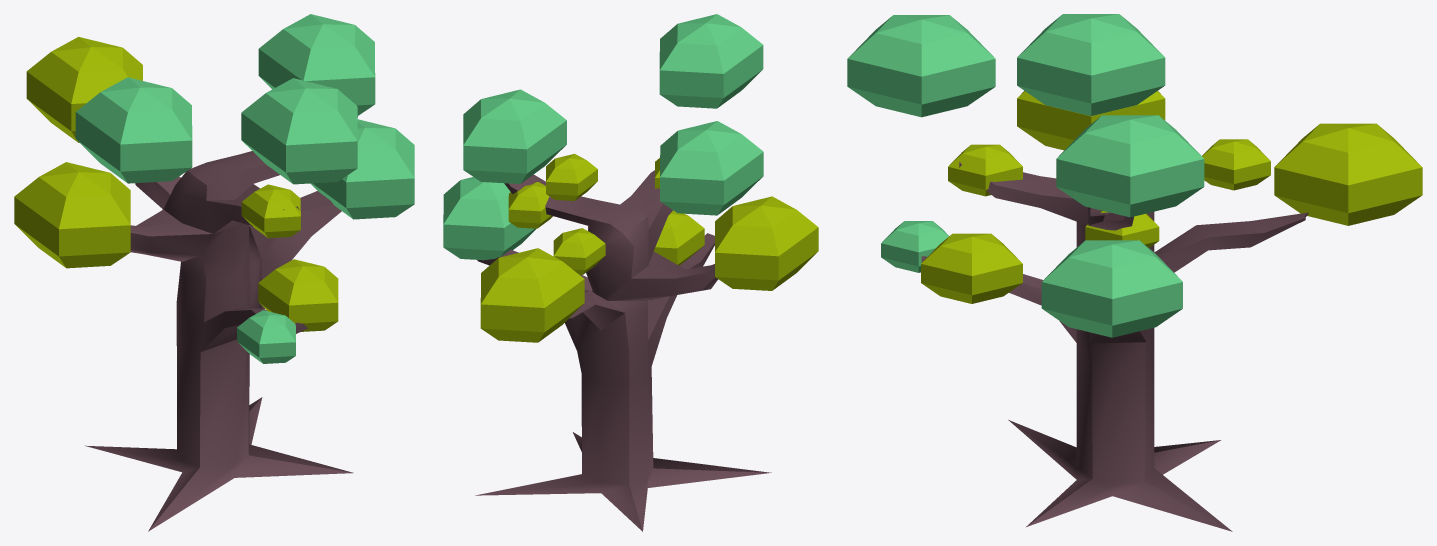
The model's file is Tree_Big.fbx.
The picture shows the model from 3 angles, left to right: view 1: azimuth 30°, elevation 25°; view 2: azimuth 150°, elevation 25°; view 3: azimuth 270°, elevation 25°; orthographic projection. The views are drawn at different scales.
Parts seen in each view (by area): view 1: Assets2:Tree:TreeInPot, Assets2:Tree:Leaves8, Assets2:Tree:Leaves9, Assets2:Tree:Leaves7, Assets2:Tree:Leaves13, Assets2:Tree:Leaves6, Assets2:Tree:Leaves, Assets2:Tree:Leaves12, Assets2:Tree:Leaves10, Assets2:Tree:Leaves11; view 2: Assets2:Tree:TreeInPot, Assets2:Tree:Leaves9, Assets2:Tree:Leaves6, Assets2:Tree:Leaves13, Assets2:Tree:Leaves7, Assets2:Tree:Leaves8, Assets2:Tree:Leaves, Assets2:Tree:Leaves4, Assets2:Tree:Leaves12, Assets2:Tree:Leaves5, Assets2:Tree:Leaves2; view 3: Assets2:Tree:TreeInPot, Assets2:Tree:Leaves6, Assets2:Tree:Leaves13, Assets2:Tree:Leaves9, Assets2:Tree:Leaves8, Assets2:Tree:Leaves, Assets2:Tree:Leaves12, Assets2:Tree:Leaves7, Assets2:Tree:Leaves5, Assets2:Tree:Leaves10, Assets2:Tree:Leaves11, Assets2:Tree:Leaves2.
Part boxes in pixels (box(x1,y1,x2,y2)): Assets2:Tree:TreeInPot: box(85, 116, 357, 531); Assets2:Tree:Leaves8: box(75, 77, 192, 183); Assets2:Tree:Leaves9: box(241, 78, 357, 184); Assets2:Tree:Leaves7: box(14, 162, 130, 268); Assets2:Tree:Leaves13: box(258, 14, 375, 115); Assets2:Tree:Leaves6: box(26, 36, 142, 142); Assets2:Tree:Leaves: box(310, 119, 414, 219); Assets2:Tree:Leaves12: box(258, 259, 338, 331); Assets2:Tree:Leaves10: box(241, 184, 300, 238); Assets2:Tree:Leaves11: box(237, 310, 295, 363); Assets2:Tree:TreeInPot: box(475, 170, 771, 531); Assets2:Tree:Leaves9: box(659, 14, 763, 108); Assets2:Tree:Leaves6: box(480, 248, 584, 342); Assets2:Tree:Leaves13: box(463, 89, 566, 183); Assets2:Tree:Leaves7: box(715, 196, 818, 290); Assets2:Tree:Leaves8: box(660, 121, 763, 215); Assets2:Tree:Leaves: box(443, 177, 536, 260); Assets2:Tree:Leaves4: box(546, 153, 597, 200); Assets2:Tree:Leaves12: box(654, 210, 704, 265); Assets2:Tree:Leaves5: box(553, 228, 605, 275); Assets2:Tree:Leaves2: box(508, 182, 552, 228); Assets2:Tree:TreeInPot: box(921, 161, 1308, 531); Assets2:Tree:Leaves6: box(1274, 123, 1422, 225); Assets2:Tree:Leaves13: box(1056, 115, 1204, 217); Assets2:Tree:Leaves9: box(847, 15, 995, 117); Assets2:Tree:Leaves8: box(1017, 14, 1165, 115); Assets2:Tree:Leaves: box(1041, 240, 1182, 337); Assets2:Tree:Leaves12: box(921, 233, 1022, 303); Assets2:Tree:Leaves7: box(1017, 91, 1165, 150); Assets2:Tree:Leaves5: box(1202, 139, 1270, 190); Assets2:Tree:Leaves10: box(948, 144, 1022, 196); Assets2:Tree:Leaves11: box(881, 221, 948, 272); Assets2:Tree:Leaves2: box(1085, 210, 1159, 247).
Bounding box in the file's own units: 4.89 × 5.37 × 6.1.
